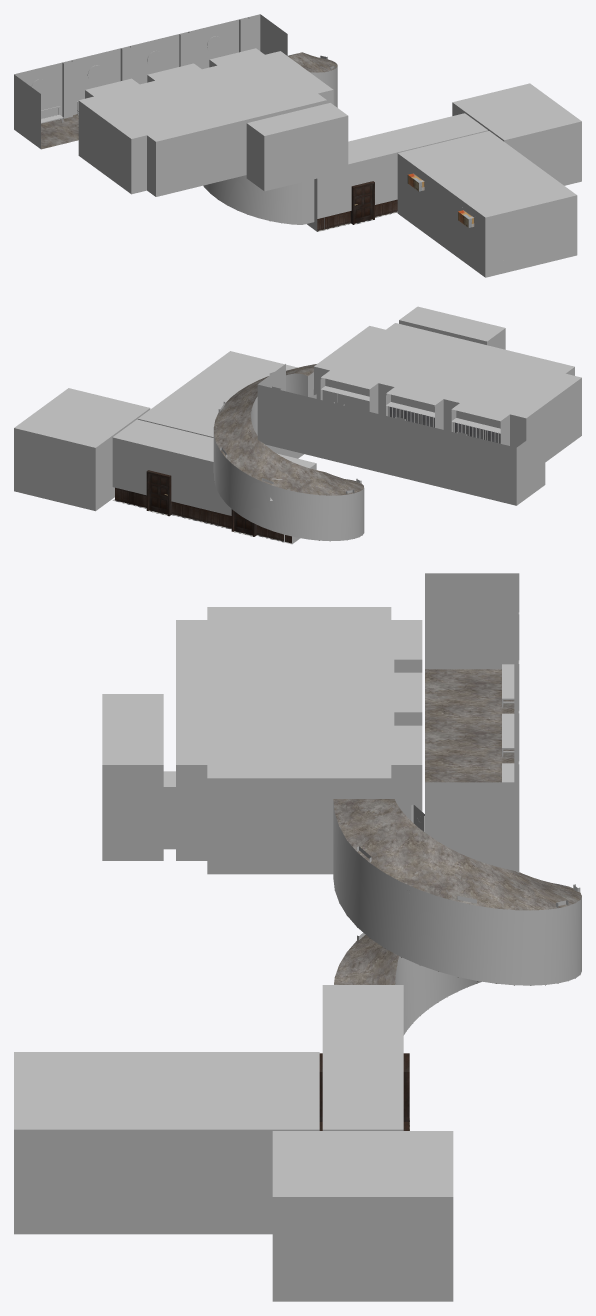
Rendered from ExportLocationAll.FBX.
3 renders of one model, top to bottom at view 1: azimuth 30°, elevation 25°; view 2: azimuth 150°, elevation 25°; view 3: azimuth 270°, elevation 25°, orthographic. The views are drawn at different scales.
Visible parts, largest first — view 1: Object024, classroom_ceiling, classroom_walls_001, garden_wall, classroom_walls_002, sd_stairs_001, garden_floor, lib_Door_004, garden_colums_004, garden_colums_003, garden_colums_001, garden_colums_002; view 2: Object024, garden_wall, classroom_ceiling, sd_stairs_001, classroom_walls_001, classroom_walls_002, lib_Door_002, classroom_window_glass_003, lib_Door_005, classroom_window_glass_001, classroom_window_glass_002; view 3: Object024, classroom_ceiling, sd_stairs_001, classroom_walls_001, garden_wall, classroom_walls_002, garden_floor.
Part boxes in pixels (box(x1,y1,x2,y2)): Object024: box(307, 83, 581, 277); classroom_ceiling: box(79, 48, 333, 141); classroom_walls_001: box(78, 60, 333, 196); garden_wall: box(14, 14, 287, 148); classroom_walls_002: box(246, 103, 348, 191); sd_stairs_001: box(203, 52, 337, 224); garden_floor: box(41, 114, 78, 149); lib_Door_004: box(350, 181, 374, 224); garden_colums_004: box(62, 60, 72, 118); garden_colums_003: box(120, 46, 131, 80); garden_colums_001: box(239, 17, 249, 52); garden_colums_002: box(179, 32, 189, 66); Object024: box(14, 351, 316, 543); garden_wall: box(257, 364, 545, 505); classroom_ceiling: box(314, 323, 581, 421); sd_stairs_001: box(213, 364, 364, 540); classroom_walls_001: box(308, 366, 581, 462); classroom_walls_002: box(399, 306, 505, 349); lib_Door_002: box(146, 470, 171, 516); classroom_window_glass_003: box(323, 390, 369, 411); lib_Door_005: box(231, 509, 256, 536); classroom_window_glass_001: box(389, 407, 434, 427); classroom_window_glass_002: box(455, 422, 500, 443); Object024: box(14, 985, 453, 1301); classroom_ceiling: box(176, 607, 422, 778); sd_stairs_001: box(333, 799, 581, 1035); classroom_walls_001: box(176, 659, 422, 874); garden_wall: box(425, 573, 519, 872); classroom_walls_002: box(102, 694, 175, 860); garden_floor: box(425, 669, 514, 782).
Bounding box in the file's own units: 3197 × 1822 × 1086.
